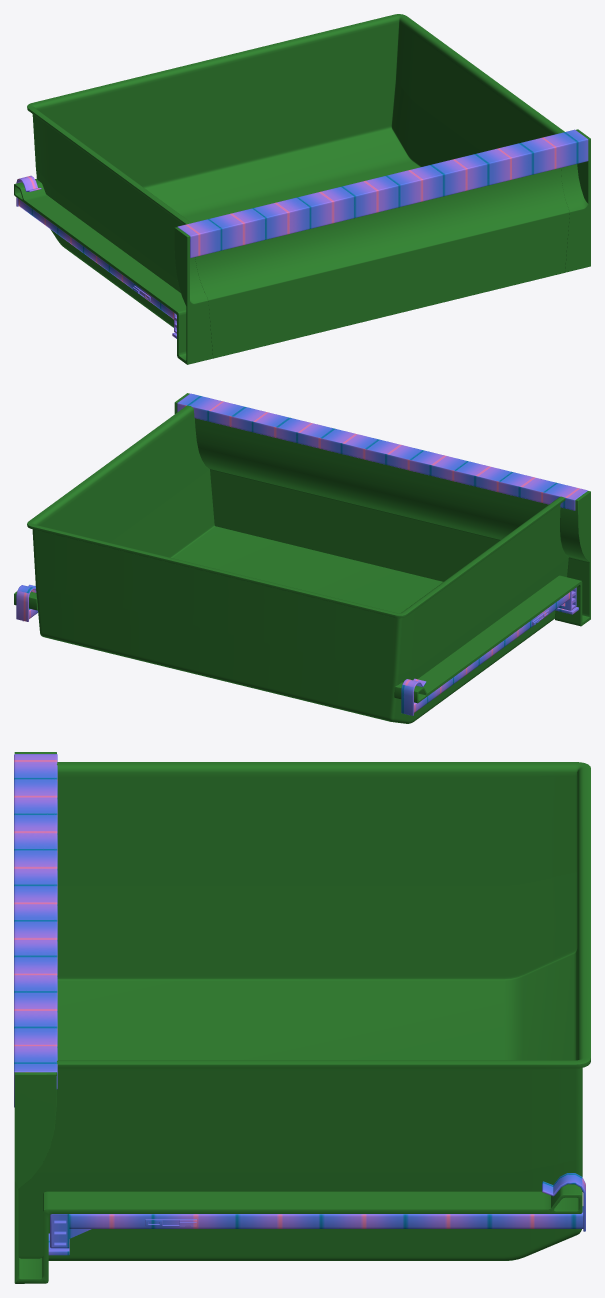
Rendered from SM_Fridge_Drawer_02.fbx.
The picture shows the model from 3 angles, top to bottom: view 1: azimuth 30°, elevation 25°; view 2: azimuth 150°, elevation 25°; view 3: azimuth 270°, elevation 25°; orthographic projection. The views are drawn at different scales.
Visible parts, largest first — view 1: SM_Fridge_Drawer_02; view 2: SM_Fridge_Drawer_02; view 3: SM_Fridge_Drawer_02.
Boxes of the visible parts, x1,y1,x2,y2 form: SM_Fridge_Drawer_02: (14, 14, 590, 364); SM_Fridge_Drawer_02: (14, 393, 590, 723); SM_Fridge_Drawer_02: (14, 752, 590, 1283).
Size of the model in its own units: 45.43 by 13.8 by 34.36.
3 materials, 2 textured.
